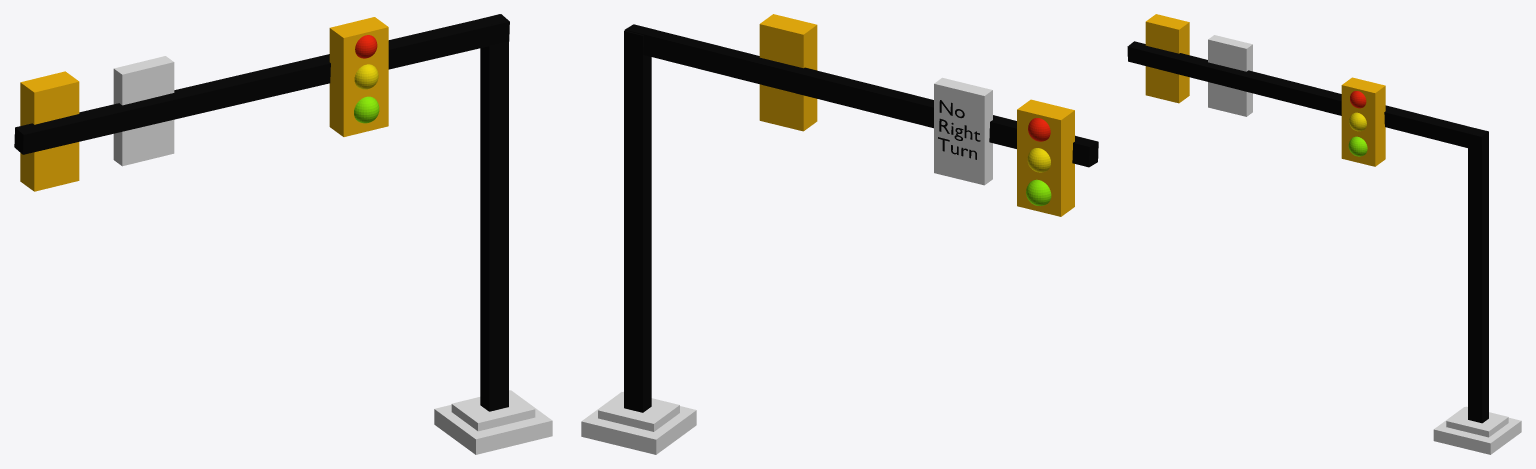
Rendered from trafficLightSign.fbx.
3 renders of one model, left to right at view 1: azimuth 30°, elevation 25°; view 2: azimuth 150°, elevation 25°; view 3: azimuth 330°, elevation 25°, orthographic. The views are drawn at different scales.
Parts seen in each view (by area): view 1: Cube.003, Cube.002, Cube.005, Cube.004, Cube.006, Cube, Cube.001, Sphere.005; view 2: Cube.002, Cube.003, Cube.006, Cube.004, Cube.005, Cube, Cube.001, Text, Sphere.002; view 3: Cube.003, Cube.002, Cube.005, Cube.004, Cube.006, Cube, Cube.001.
Boxes of the visible parts, x1,y1,x2,y2 form: Cube.003: [14, 14, 509, 154]; Cube.002: [480, 14, 508, 411]; Cube.005: [329, 17, 388, 136]; Cube.004: [20, 71, 79, 191]; Cube.006: [113, 56, 174, 166]; Cube: [434, 390, 552, 454]; Cube.001: [451, 390, 535, 431]; Sphere.005: [354, 96, 379, 123]; Cube.002: [624, 25, 651, 412]; Cube.003: [624, 24, 1098, 167]; Cube.006: [934, 77, 992, 185]; Cube.004: [1017, 99, 1074, 216]; Cube.005: [759, 14, 817, 131]; Cube: [581, 392, 696, 454]; Cube.001: [598, 391, 679, 431]; Text: [938, 100, 980, 159]; Sphere.002: [1026, 179, 1051, 205]; Cube.003: [1127, 41, 1488, 151]; Cube.002: [1468, 130, 1488, 423]; Cube.005: [1341, 77, 1385, 166]; Cube.004: [1145, 14, 1189, 103]; Cube.006: [1208, 35, 1252, 116]; Cube: [1433, 407, 1521, 454]; Cube.001: [1446, 406, 1508, 437].
Bounding box in the file's own units: 539 × 450 × 90.63.
